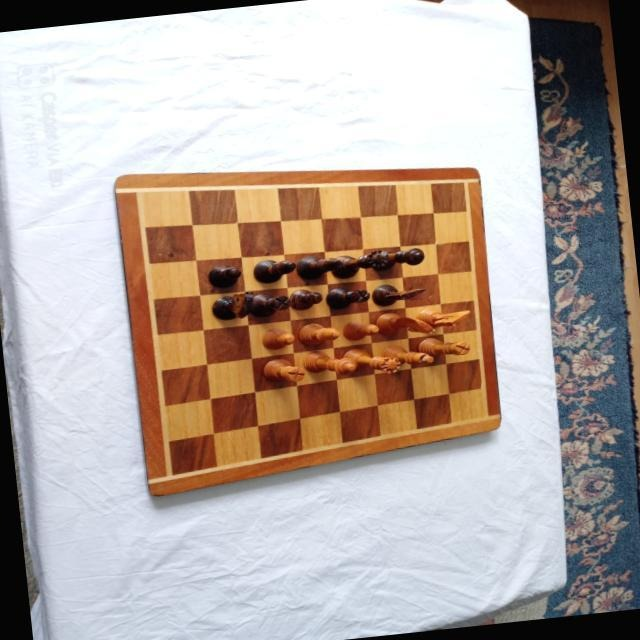black-bishop: (295, 252, 341, 282), (252, 255, 296, 284)
black-king: (368, 247, 424, 273)
black-knight: (370, 279, 426, 307), (208, 290, 255, 322)
black-pawn: (206, 264, 242, 290), (286, 286, 322, 311)
black-queen: (329, 248, 390, 280)
black-rook: (322, 284, 370, 311), (247, 290, 291, 318)
white-bishop: (379, 342, 433, 368), (297, 321, 341, 347)
white-king: (302, 347, 357, 380)
white-knight: (373, 308, 434, 340), (416, 302, 472, 329)
white-pawn: (341, 318, 379, 342), (261, 325, 295, 350)
white-queen: (341, 343, 399, 378)
white-rook: (416, 333, 470, 359), (261, 356, 305, 384)
